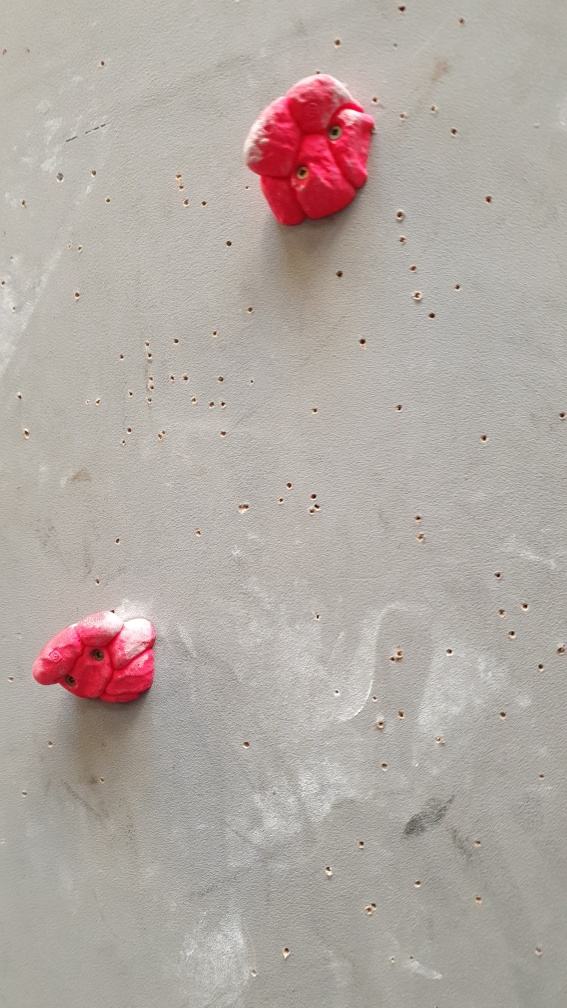Jug: (241, 71, 376, 231), (31, 607, 158, 707)
